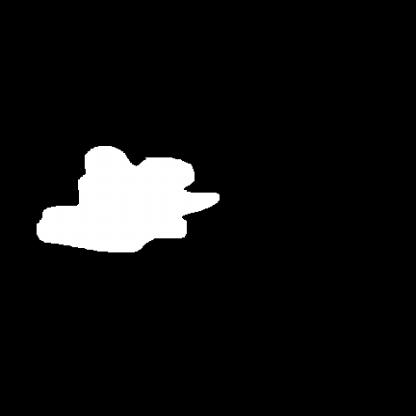malignant: (34, 140, 225, 257)
